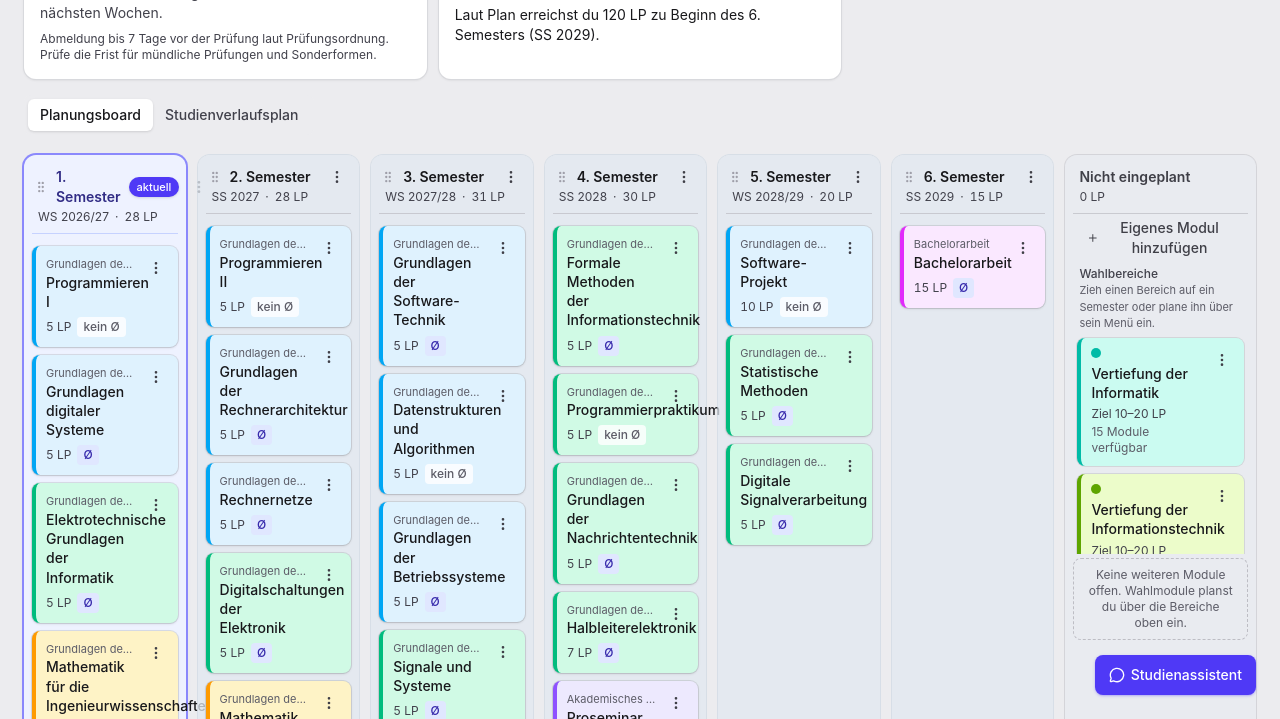
Test: choice area tiles › browses the options without choosing
The image size is (1280, 719).
(page scrolled)
Click the button named "Aktionen für Vertiefung der Informatik": (1222, 360) [1206, 344, 1238, 376]
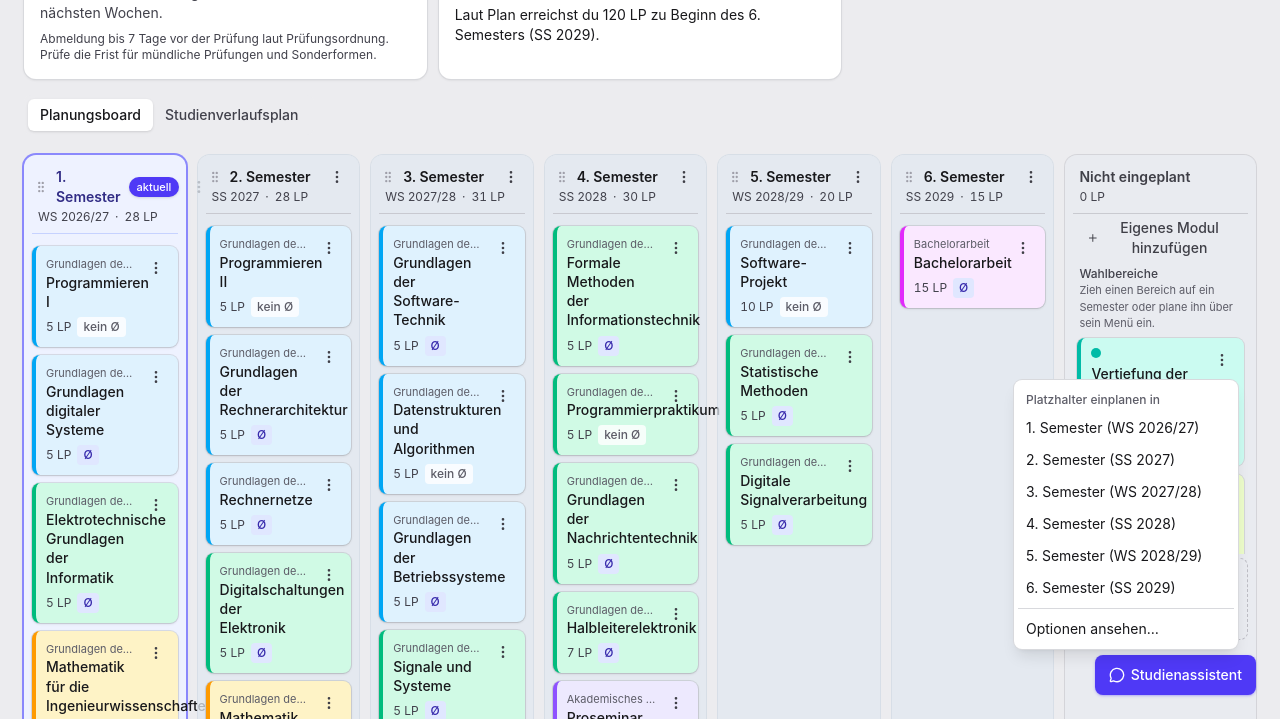
Click the menu item "Optionen ansehen…": (1092, 628) [1026, 620, 1159, 637]
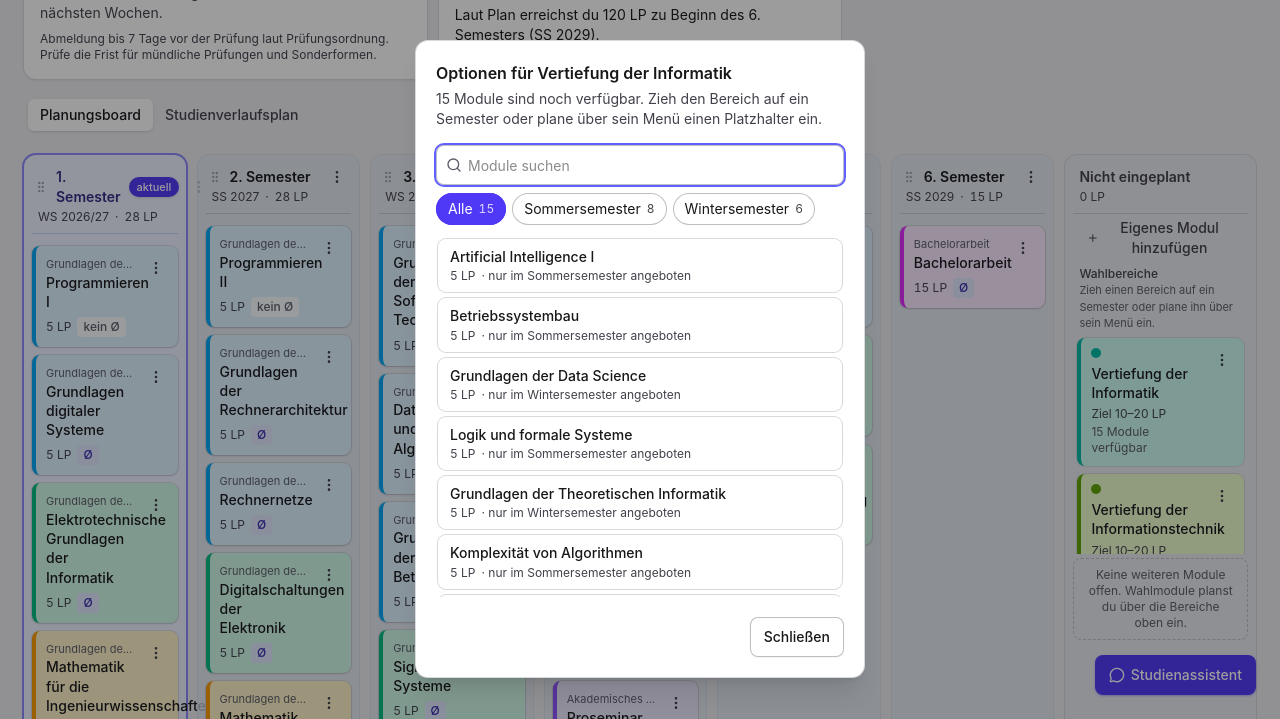
Now the text "Artificial Intelligence I" is shown, box [450, 248, 594, 265]
